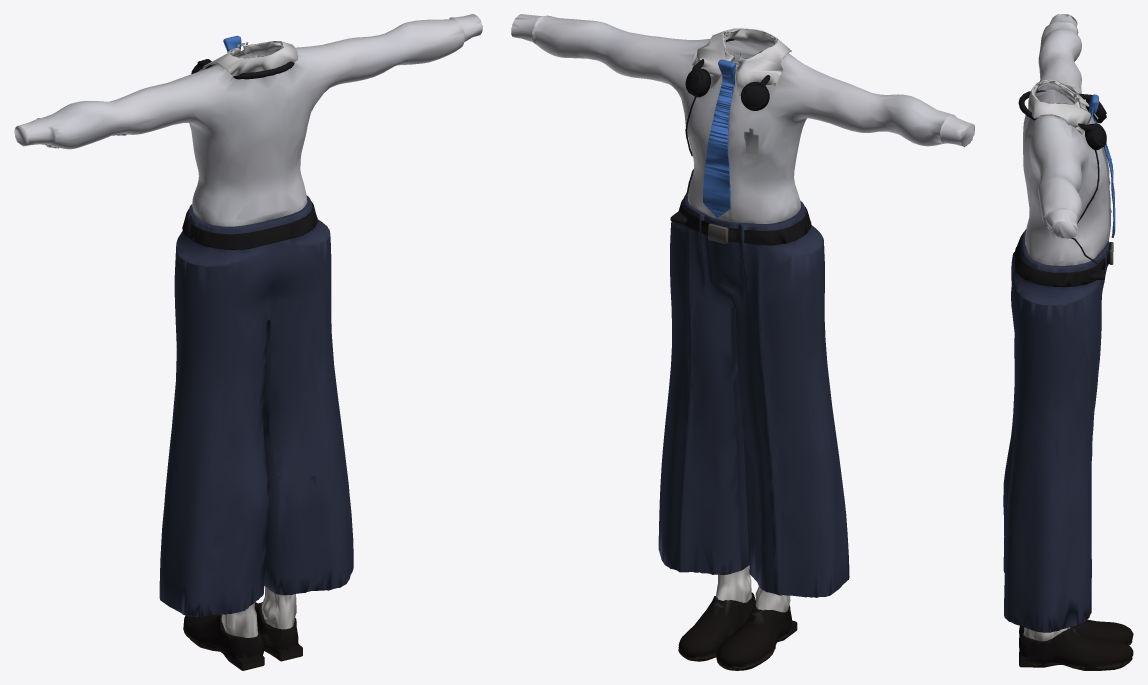
File: stagehand.glb
3 views of the same model, side by side, from view 1: azimuth 30°, elevation 25°; view 2: azimuth 150°, elevation 25°; view 3: azimuth 270°, elevation 25° (orthographic). The views are drawn at different scales.
Visible parts, largest first — view 1: stagehand; view 2: stagehand; view 3: stagehand.
Part boxes in pixels (x1,y1,x2,y2): stagehand: (14, 14, 482, 670); stagehand: (511, 14, 974, 670); stagehand: (1003, 14, 1133, 670).
Bounding box in the file's own units: 1.16 × 1.47 × 0.3079.
